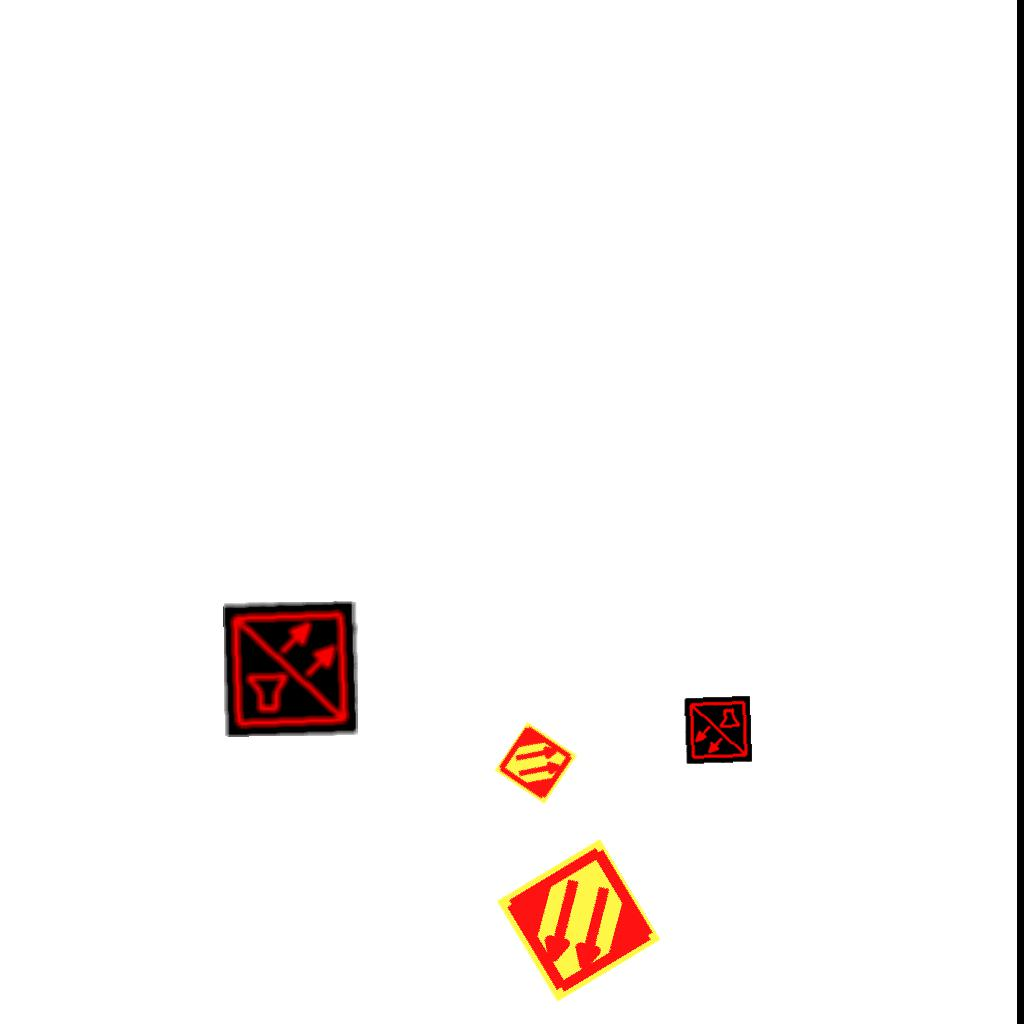ASR_Ansaugrauchmelder: (492, 834, 665, 1007), (492, 719, 580, 807)
OKW_Multisensormelder_(Kombination_optischer_Rauch-Kahlenmonoxid_Waerme-Melder): (222, 600, 360, 738), (683, 695, 753, 765)
